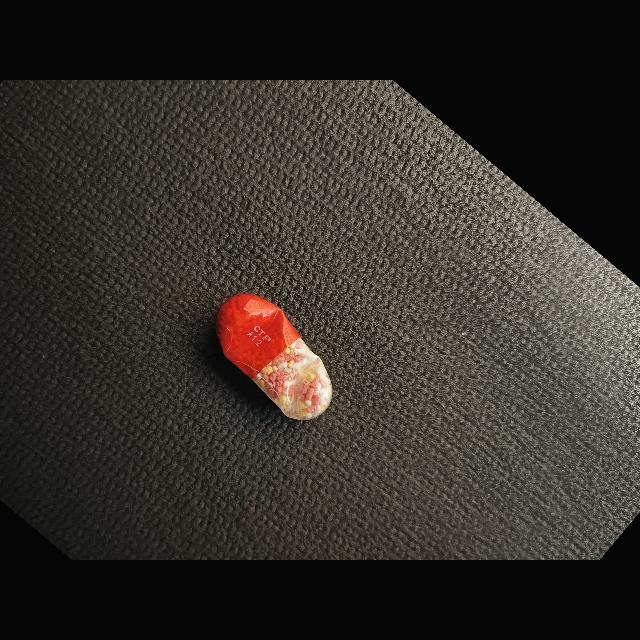Defective Capsule: (217, 294, 333, 420)
